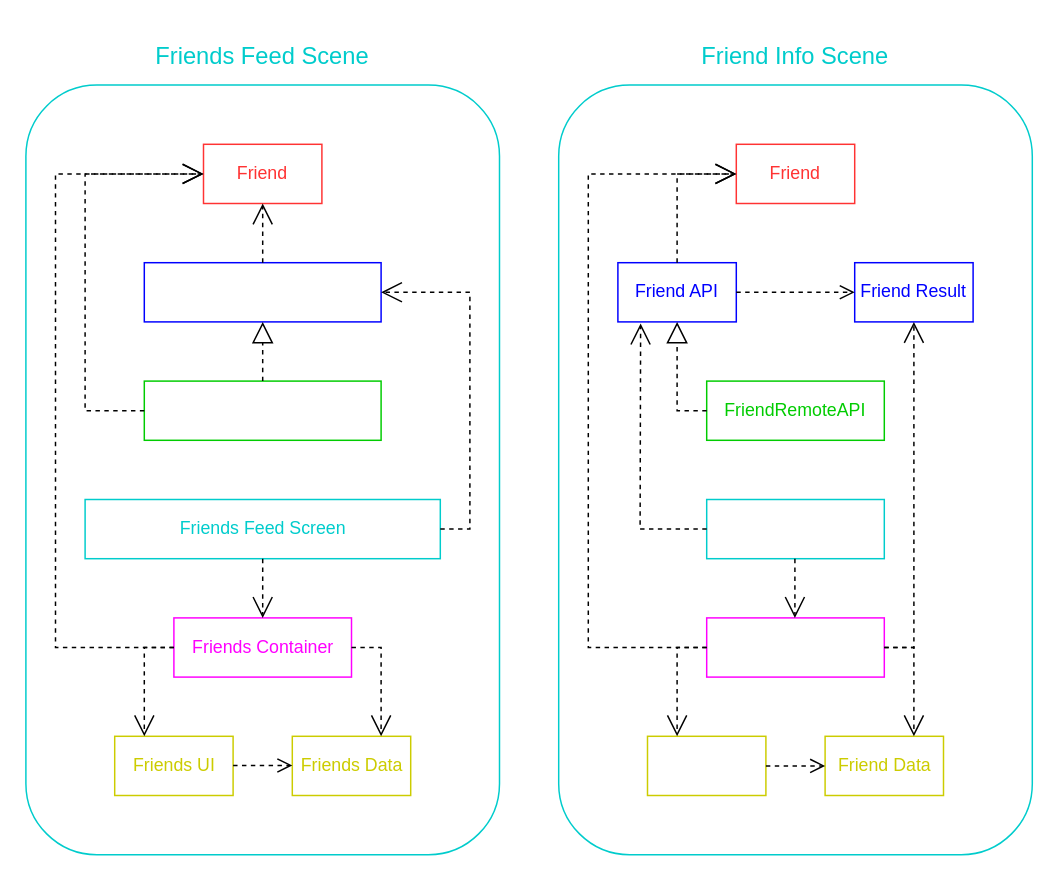
The diagram is 1058 pixels wide and 881 high, and some of its shapes have lost their labels. Each missing label, with the box of its shape:
Friend Info Container: (705, 616, 884, 677)
Friend Info UI: (646, 735, 766, 796)
Friends API (use-case): (143, 261, 381, 322)
Friends Info Screen: (705, 498, 884, 559)
FriendsRemoteAPI: (143, 380, 381, 440)
